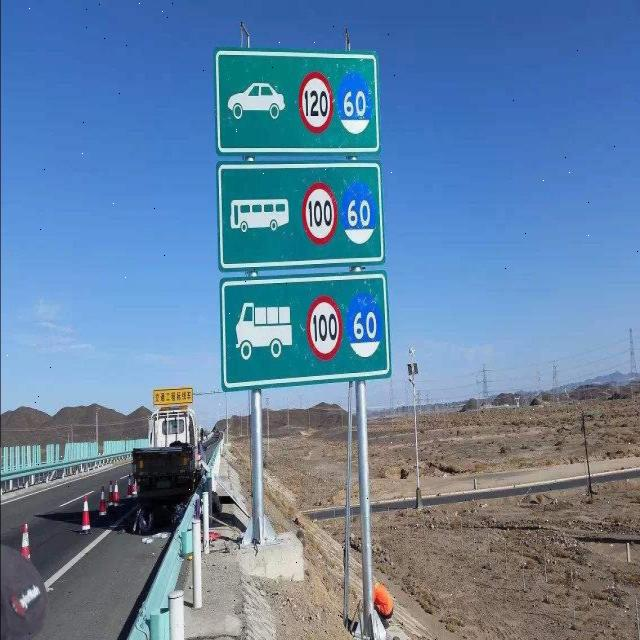speed limit 100: (306, 293, 343, 360), (302, 181, 338, 246)
speed limit 120: (298, 71, 334, 135)
speed limit 60: (340, 180, 377, 245), (347, 290, 382, 358), (337, 71, 373, 136)
